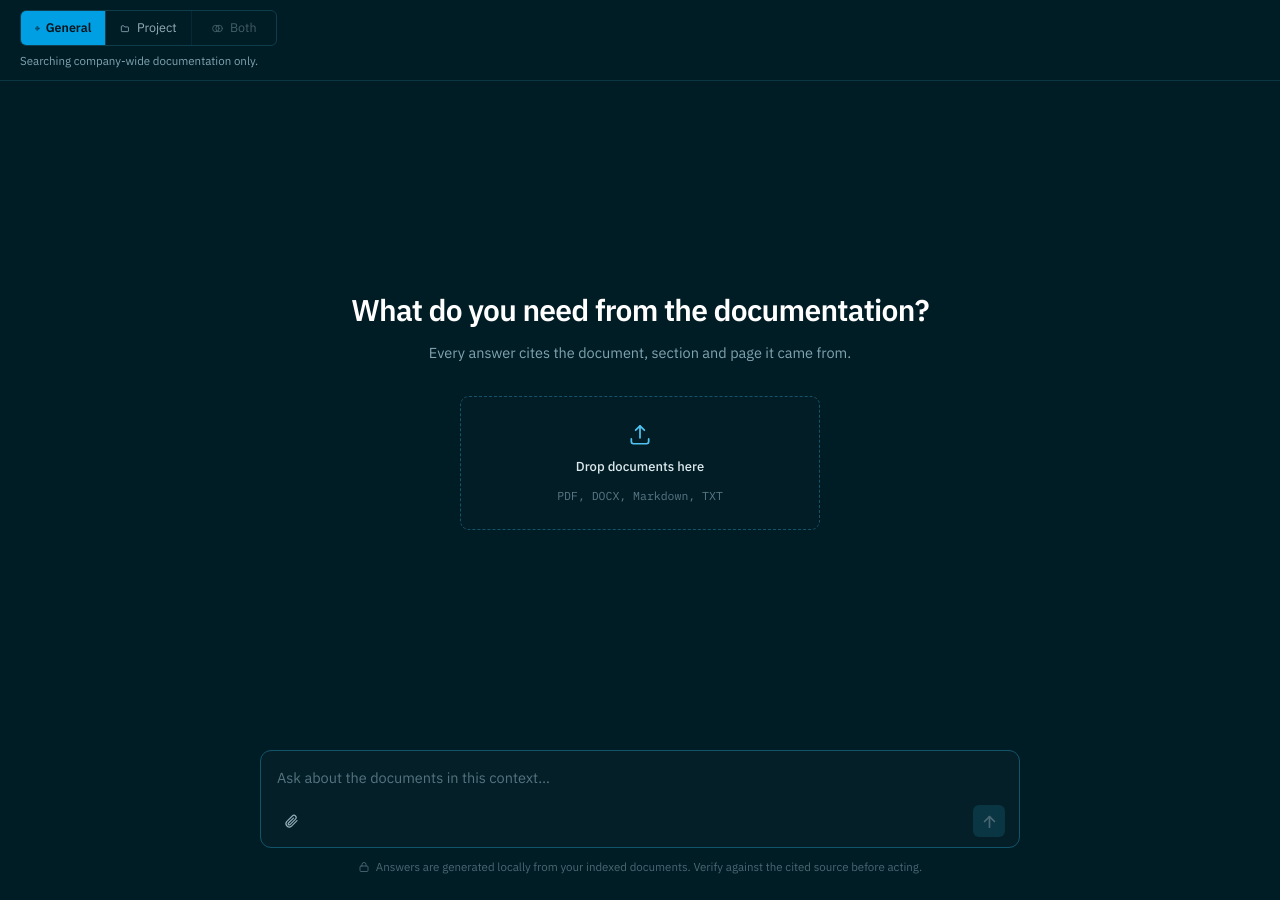
Test case: ChatPage › marks Project as the active scope the instant it is clicked, before any project is picked
The width and height of the screenshot is (1280, 900).
Click the radio button labelled "Project" at x=148, y=28, box [105, 11, 191, 45]
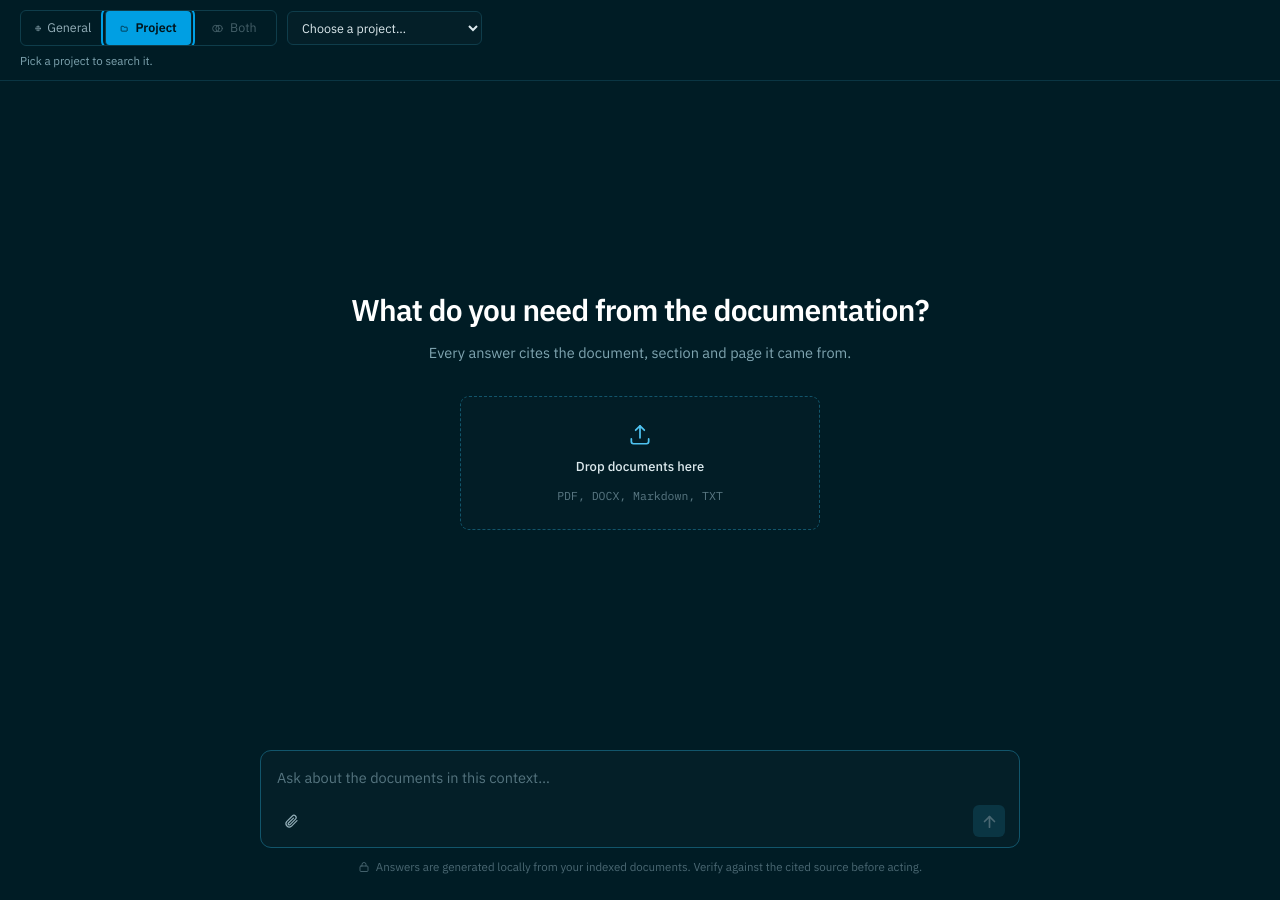
Check: the dropdown named "Project to search" is shown, box [287, 11, 482, 45]
